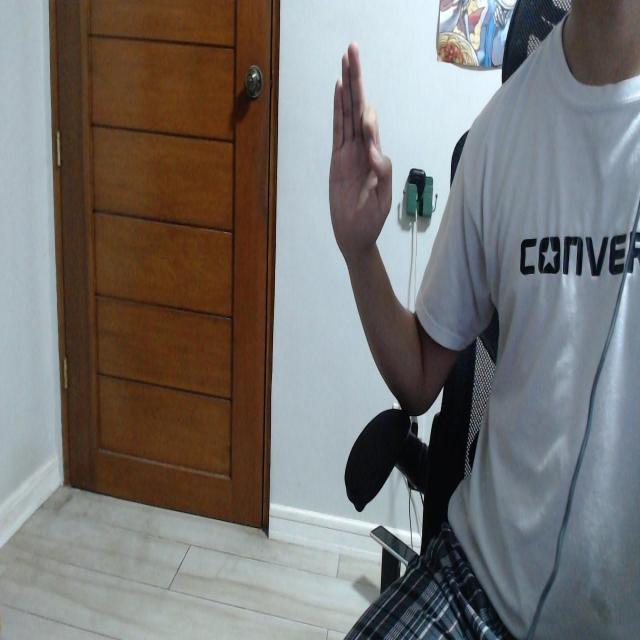F: (329, 41, 393, 243)
